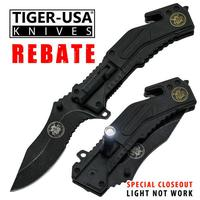knife: (6, 2, 195, 195)
